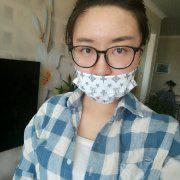WRONG: (71, 32, 139, 104)
